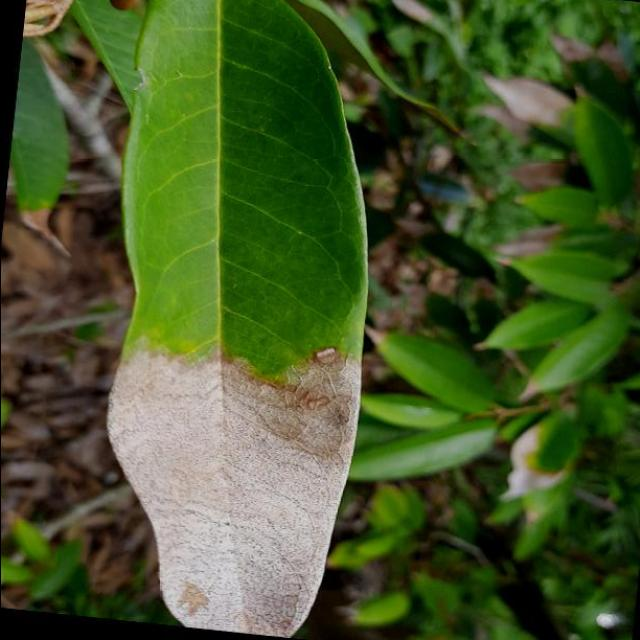Leaf Blight: (58, 0, 410, 640)
